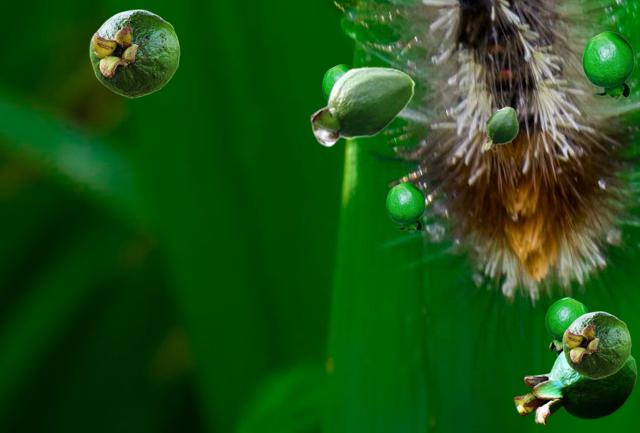guava: (513, 350, 636, 425), (310, 66, 414, 146), (89, 9, 179, 97), (562, 311, 630, 378), (582, 31, 633, 98), (545, 297, 588, 355), (386, 182, 424, 231), (484, 106, 517, 151), (322, 64, 351, 100)
